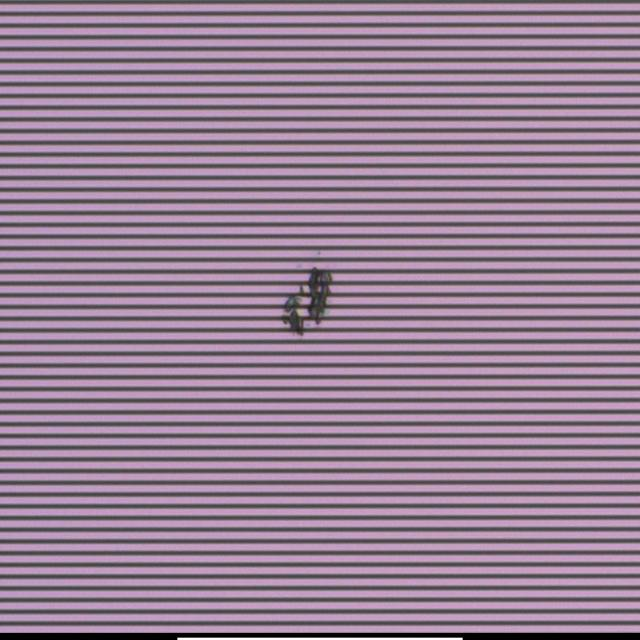nonvisual: (280, 262, 336, 336)
